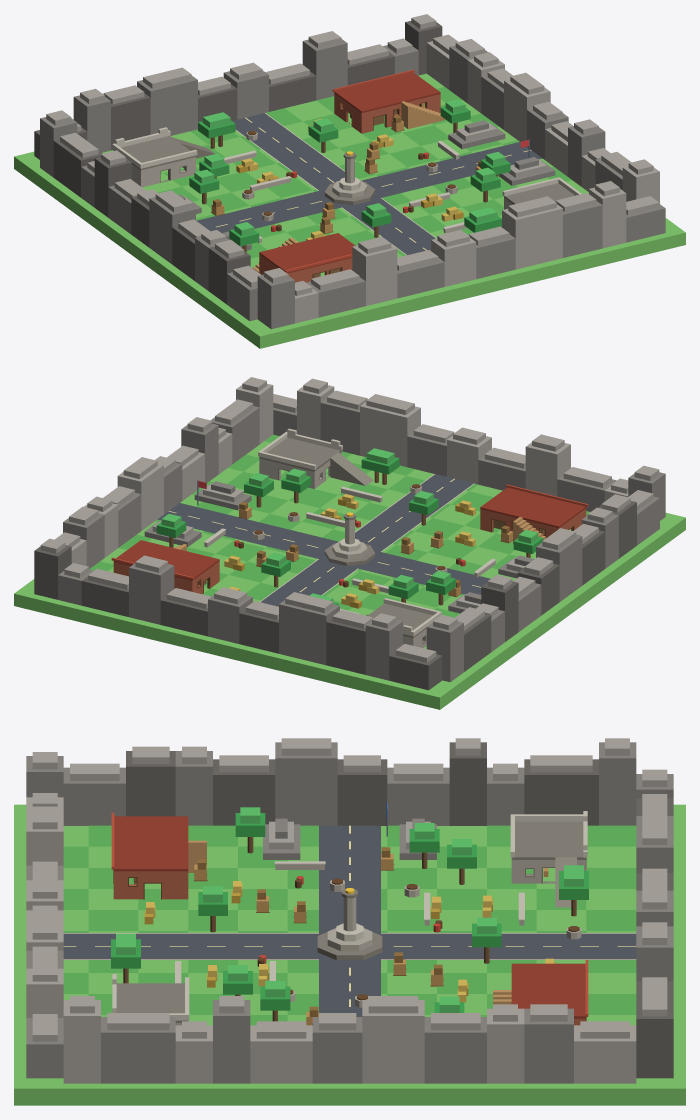
The model's file is crossroads.glb.
3 views of the same model, one above another, from view 1: azimuth 30°, elevation 25°; view 2: azimuth 150°, elevation 25°; view 3: azimuth 270°, elevation 25° (orthographic). The views are drawn at different scales.
Visible parts, largest first — view 1: crossroads_Cliffs_rockLight, crossroads_Cliffs_rock, crossroads_Ground_grass, crossroads_Cliffs_rockDark, crossroads_Roads_road, crossroads_Ground_grassDark, crossroads_Warehouse_roofD, crossroads_Trees_leaf, crossroads_Trees_leaf2, crossroads_Warehouse_brick, crossroads_Fort_stoneDark, crossroads_Rocks_rock (+12 smaller); view 2: crossroads_Cliffs_rockLight, crossroads_Cliffs_rock, crossroads_Ground_grass, crossroads_Cliffs_rockDark, crossroads_Ground_grassDark, crossroads_Roads_road, crossroads_Warehouse_roofD, crossroads_Trees_leaf, crossroads_Fort_stoneDark, crossroads_Trees_leaf2, crossroads_Warehouse_brick, crossroads_Rocks_rock (+11 smaller); view 3: crossroads_Ground_grass, crossroads_Cliffs_rockLight, crossroads_Cliffs_rock, crossroads_Ground_grassDark, crossroads_Roads_road, crossroads_Cliffs_rockDark, crossroads_Warehouse_roofD, crossroads_Fort_stoneDark, crossroads_Trees_leaf, crossroads_Trees_leaf2, crossroads_Warehouse_brick, crossroads_Rocks_rock (+13 smaller).
Boxes of the visible parts, x1,y1,x2,y2 form: crossroads_Cliffs_rockLight: (46, 14, 659, 323); crossroads_Cliffs_rock: (40, 39, 665, 329); crossroads_Ground_grass: (14, 73, 685, 348); crossroads_Cliffs_rockDark: (34, 21, 442, 304); crossroads_Roads_road: (196, 113, 542, 255); crossroads_Ground_grassDark: (158, 87, 571, 258); crossroads_Warehouse_roofD: (259, 72, 440, 273); crossroads_Trees_leaf: (189, 106, 510, 246); crossroads_Trees_leaf2: (194, 99, 505, 235); crossroads_Warehouse_brick: (259, 93, 440, 282); crossroads_Fort_stoneDark: (113, 136, 574, 204); crossroads_Rocks_rock: (178, 120, 555, 250); crossroads_Cliffs_rockLight: (40, 377, 659, 662); crossroads_Cliffs_rock: (58, 398, 665, 682); crossroads_Ground_grass: (14, 441, 685, 709); crossroads_Cliffs_rockDark: (34, 501, 636, 690); crossroads_Ground_grassDark: (89, 434, 590, 617); crossroads_Roads_road: (157, 474, 490, 606); crossroads_Warehouse_roofD: (113, 487, 586, 580); crossroads_Trees_leaf: (156, 456, 543, 605); crossroads_Fort_stoneDark: (259, 437, 432, 637); crossroads_Trees_leaf2: (161, 448, 538, 601); crossroads_Warehouse_brick: (113, 508, 586, 594); crossroads_Rocks_rock: (144, 481, 534, 613); crossroads_Ground_grass: (14, 804, 685, 1105); crossroads_Cliffs_rockLight: (26, 738, 667, 1083); crossroads_Cliffs_rock: (26, 742, 673, 1083); crossroads_Ground_grassDark: (63, 825, 636, 1025); crossroads_Roads_road: (63, 825, 636, 1016); crossroads_Cliffs_rockDark: (126, 742, 673, 1078); crossroads_Warehouse_roofD: (113, 816, 586, 1018); crossroads_Fort_stoneDark: (116, 821, 586, 1022); crossroads_Trees_leaf: (111, 813, 588, 1012); crossroads_Trees_leaf2: (116, 807, 583, 1012); crossroads_Warehouse_brick: (113, 871, 586, 1025); crossroads_Rocks_rock: (263, 818, 436, 859).
Bounding box in the file's own units: 108 × 16.2 × 108.
